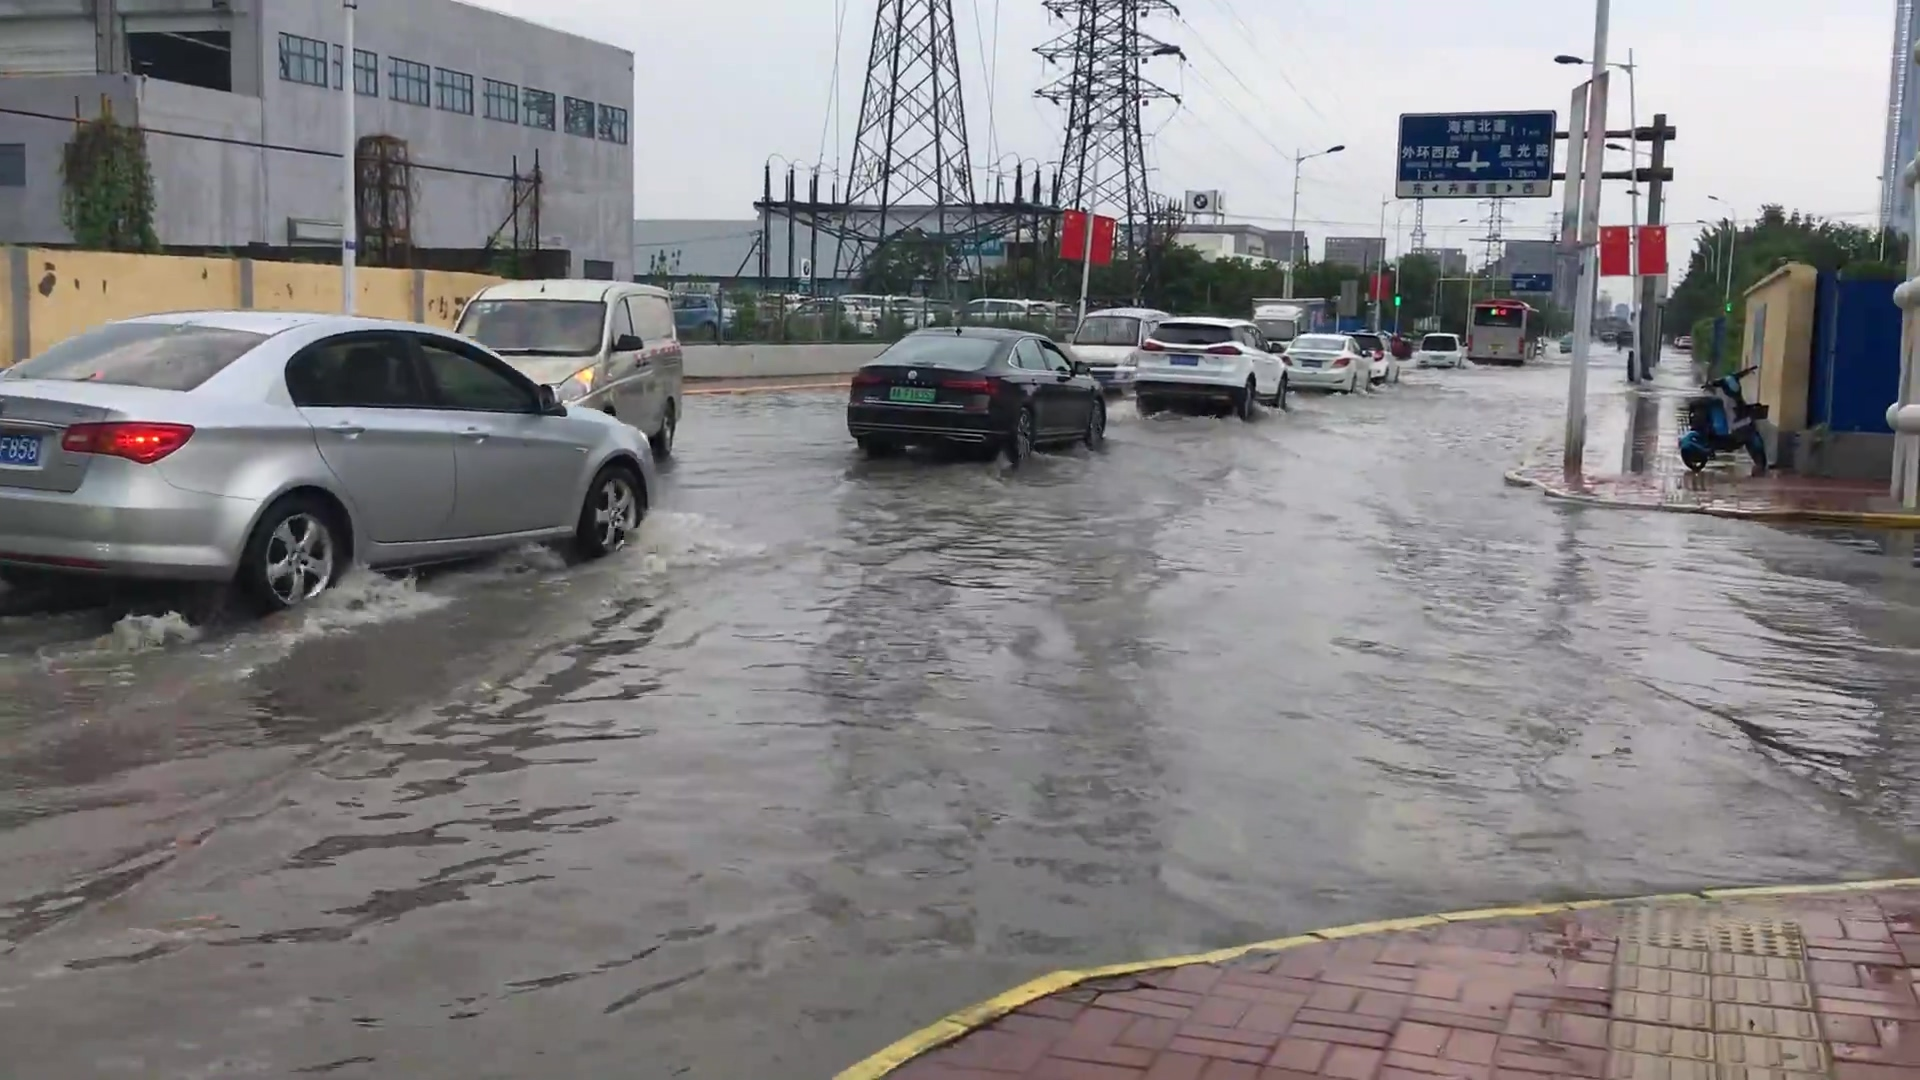puddle: (3, 479, 1873, 1080)
